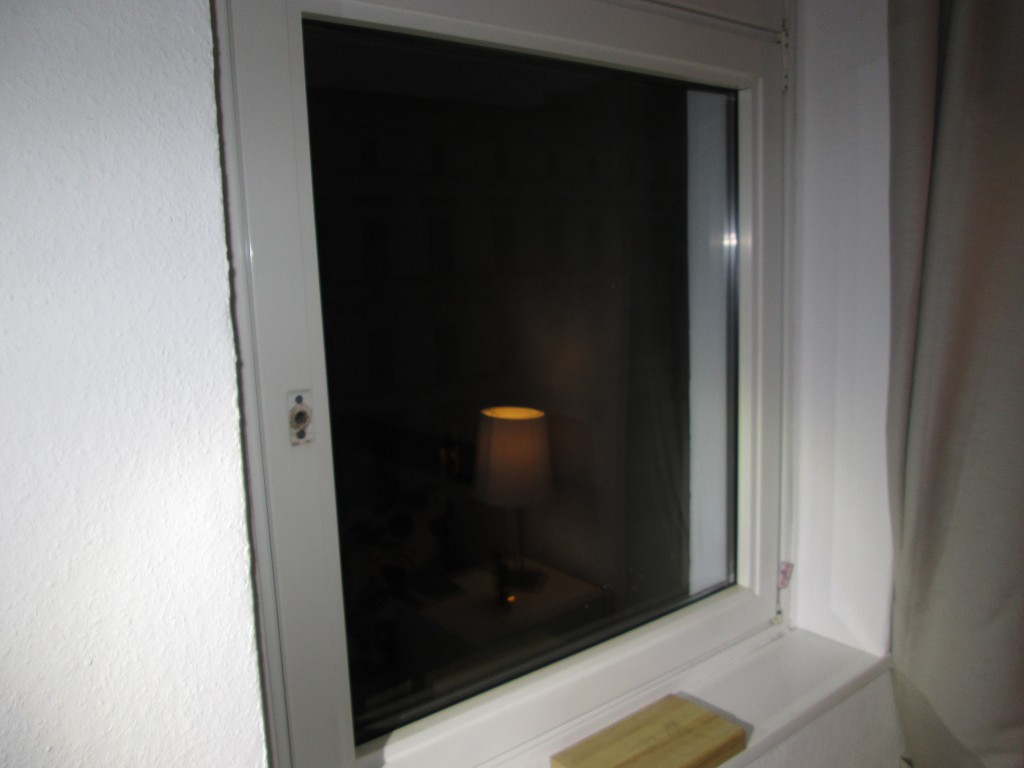windows: (211, 1, 805, 694)
